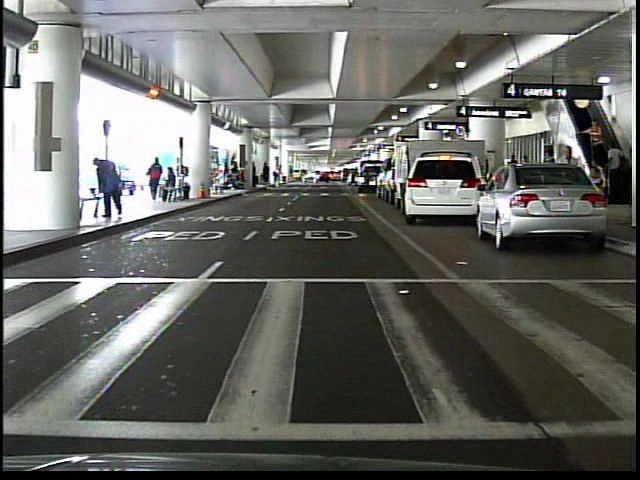person: (93, 152, 128, 223), (581, 117, 607, 168), (606, 139, 625, 193), (212, 165, 227, 199), (274, 162, 287, 190)
